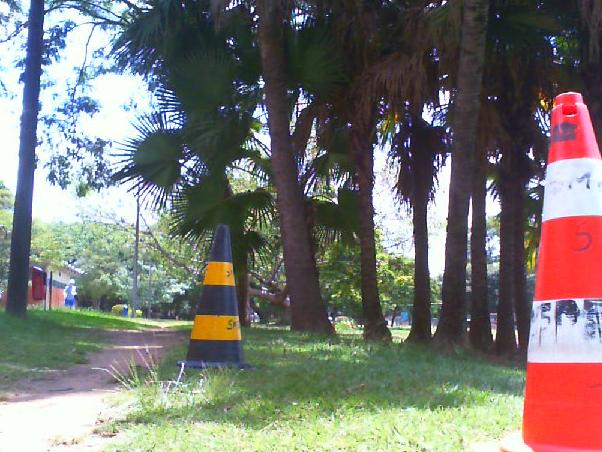0 cone: (499, 91, 602, 452), (175, 226, 255, 369)
